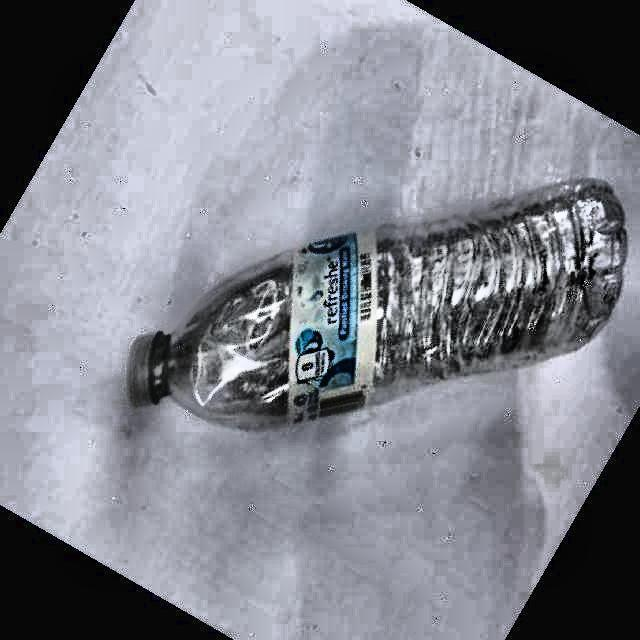plastic: (128, 180, 628, 427)
